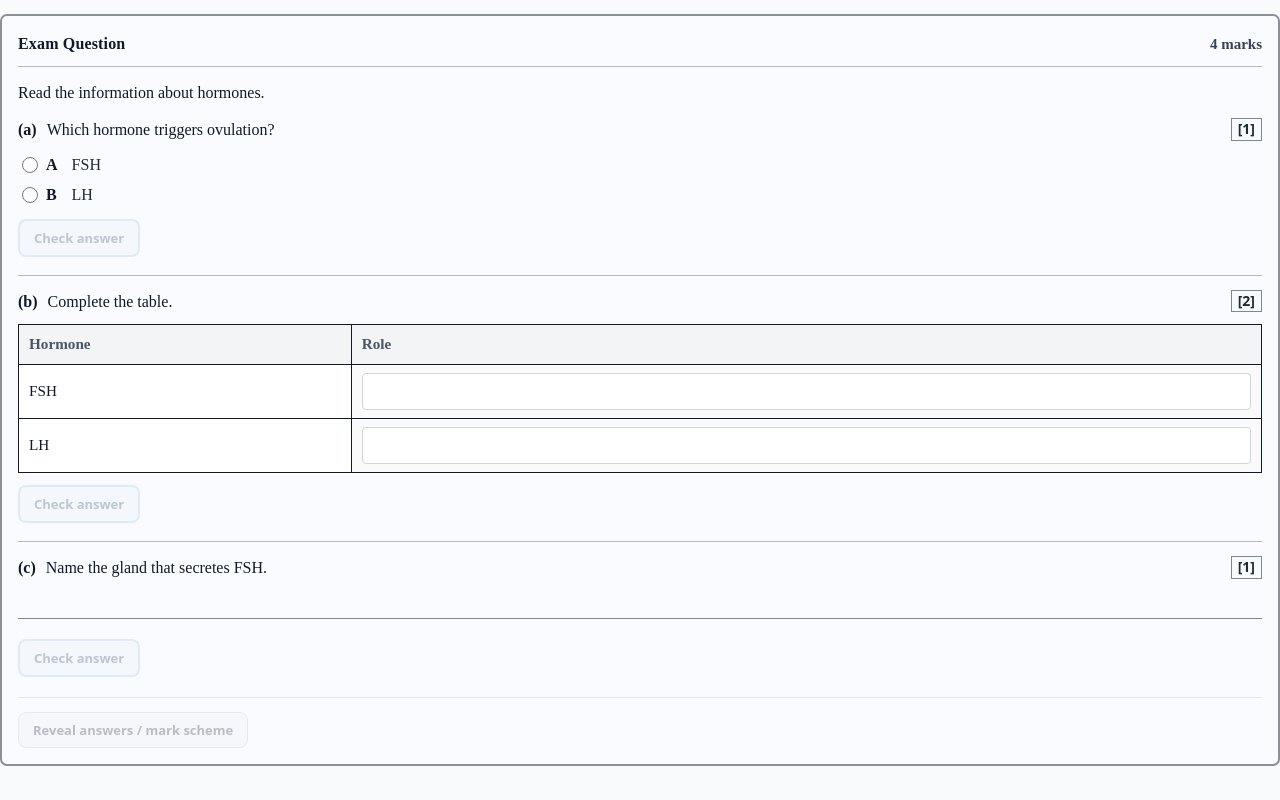
Test case: ExamQuestionBlock table composite (TABLE_PARTS_ENABLED ON) › footer Check answer appears only when all parts have answers
Click the radio button labelled "B LH" at x=30, y=195, box [22,187,38,203]
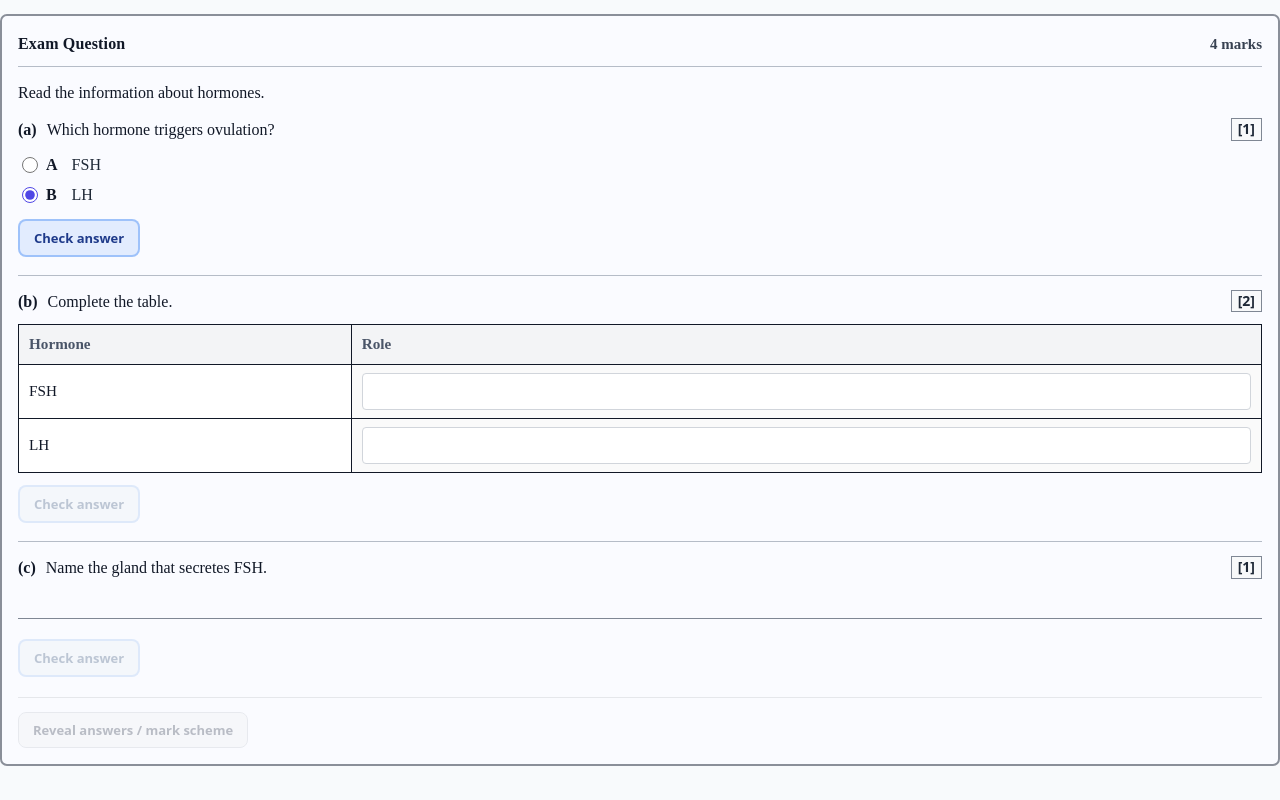
Type "Stimulates follicles" into the field with test id "exam-composite-table-input-1-0-1" at x=806, y=392, box [362,373,1251,410]
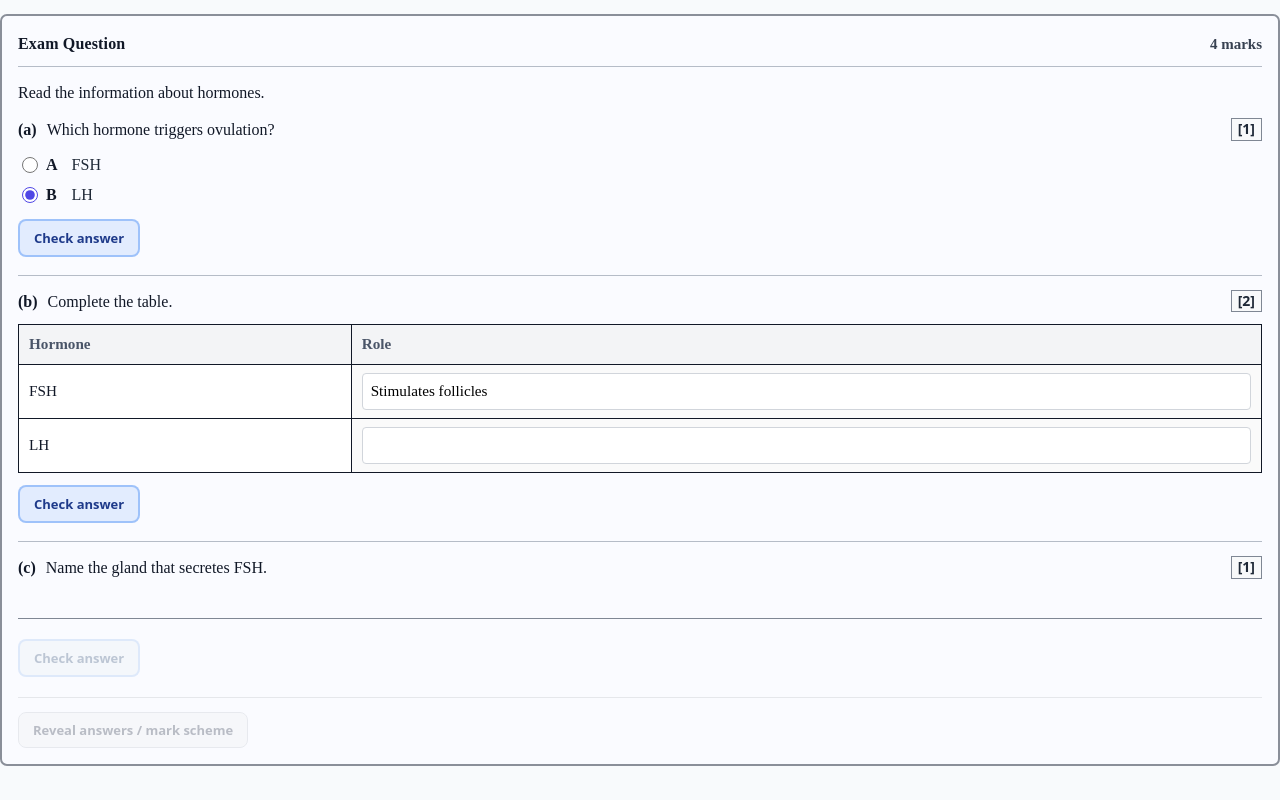
Type "Triggers ovulation" into the field with test id "exam-composite-table-input-1-1-1" at x=806, y=445, box [362,427,1251,464]
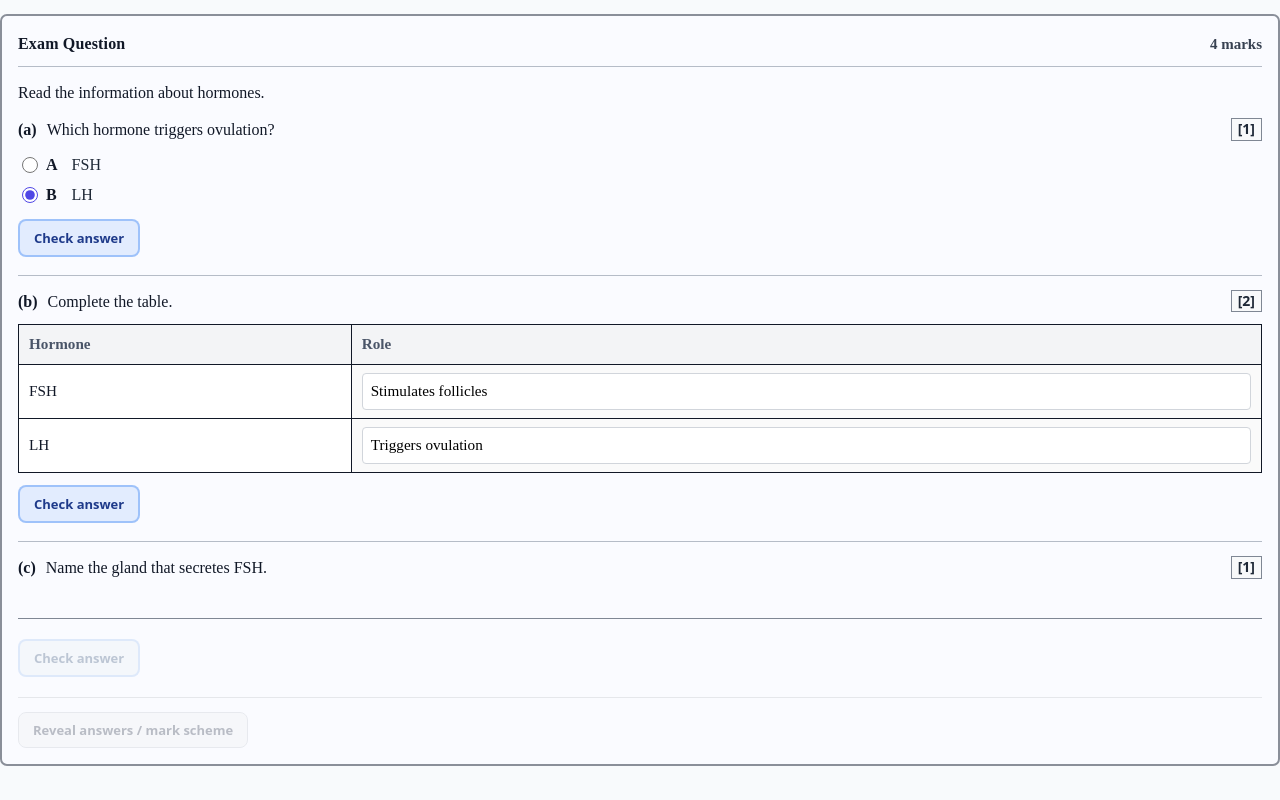
Type "Pituitary gland" into the text box named "your answer" at x=640, y=608, box [18,590,1262,626]
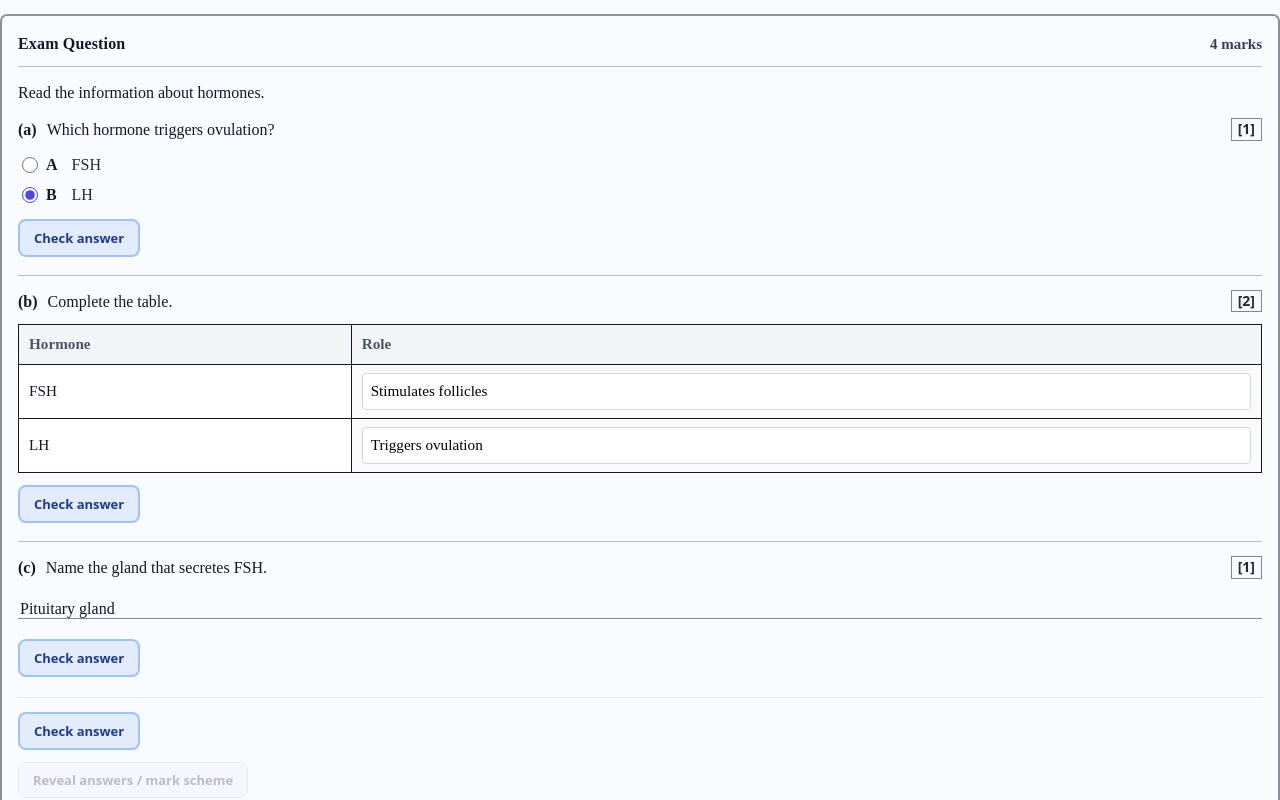
Expected: the button with test id "exam-composite-check-all-btn" is shown, [18,712,140,750]
